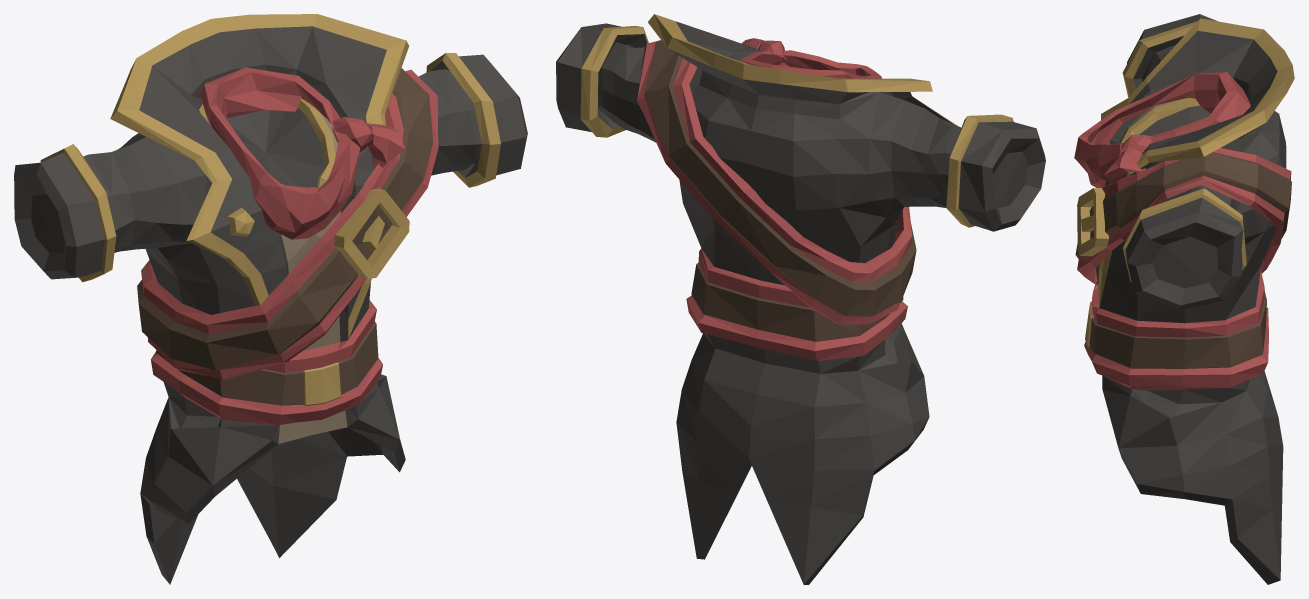
The model's file is armorPirateDisplay.fbx.
3 views of the same model, side by side, from view 1: azimuth 30°, elevation 25°; view 2: azimuth 150°, elevation 25°; view 3: azimuth 270°, elevation 25° (orthographic). The views are drawn at different scales.
Visible parts, largest first — view 1: armorPirateDisplay; view 2: armorPirateDisplay; view 3: armorPirateDisplay.
Part boxes in pixels (x1,y1,x2,y2): armorPirateDisplay: (14, 14, 527, 584); armorPirateDisplay: (556, 14, 1045, 584); armorPirateDisplay: (1074, 14, 1294, 584).
Bounding box in the file's own units: 1.67 × 1.88 × 0.756.
